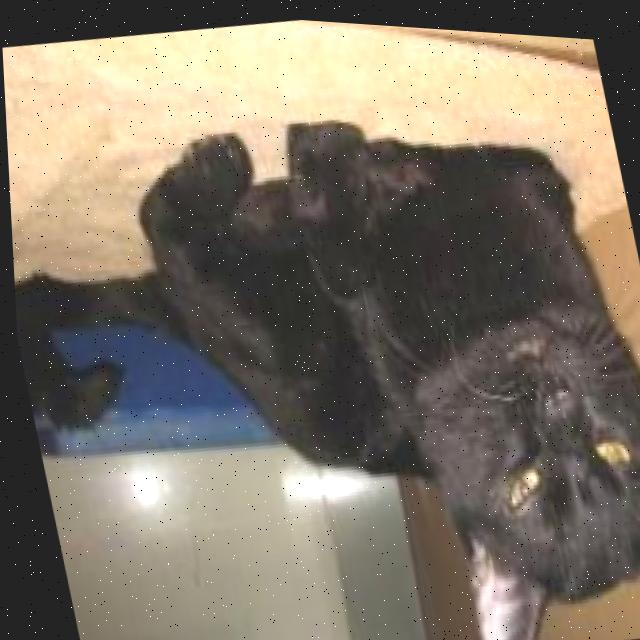Bombay: (2, 51, 640, 640)
